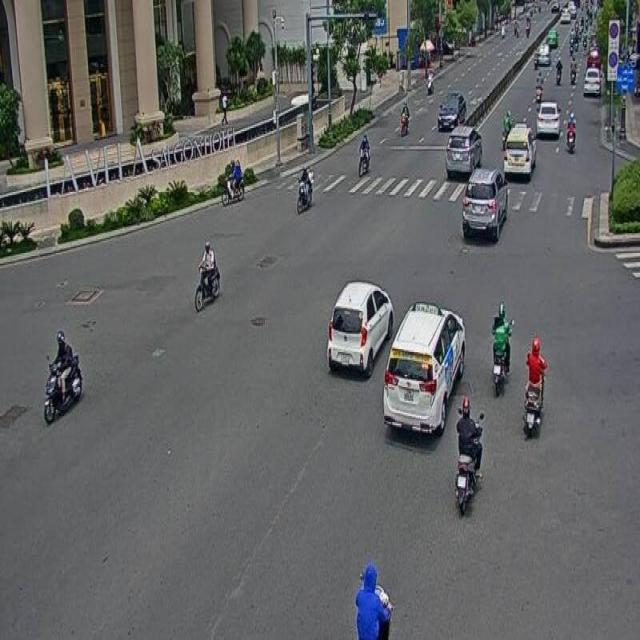car: (380, 305, 462, 442), (328, 282, 390, 379), (462, 164, 506, 243), (444, 124, 483, 178), (504, 119, 537, 177)
motorcycle: (456, 395, 485, 518), (43, 328, 81, 420), (524, 338, 546, 439), (490, 306, 511, 393), (194, 241, 220, 309), (222, 156, 244, 204), (294, 164, 313, 213), (358, 131, 370, 175)
